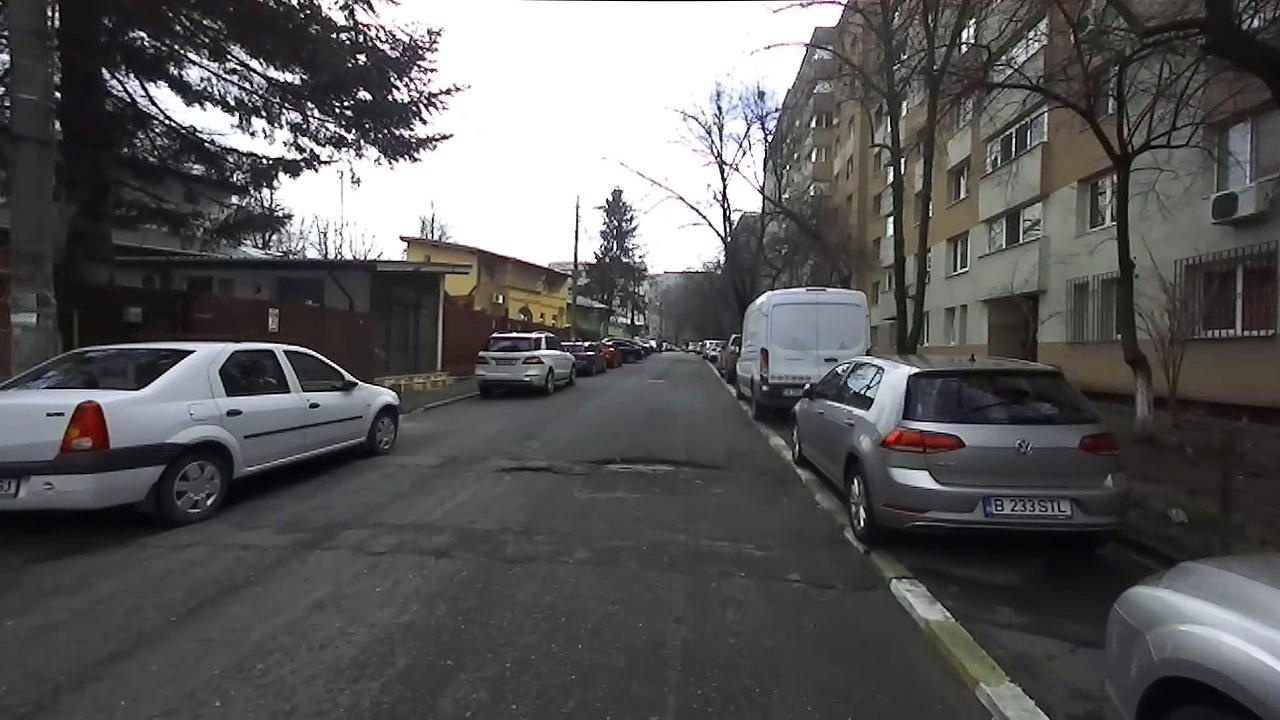pothole: (586, 451, 726, 474), (774, 567, 874, 597), (492, 461, 576, 475)
